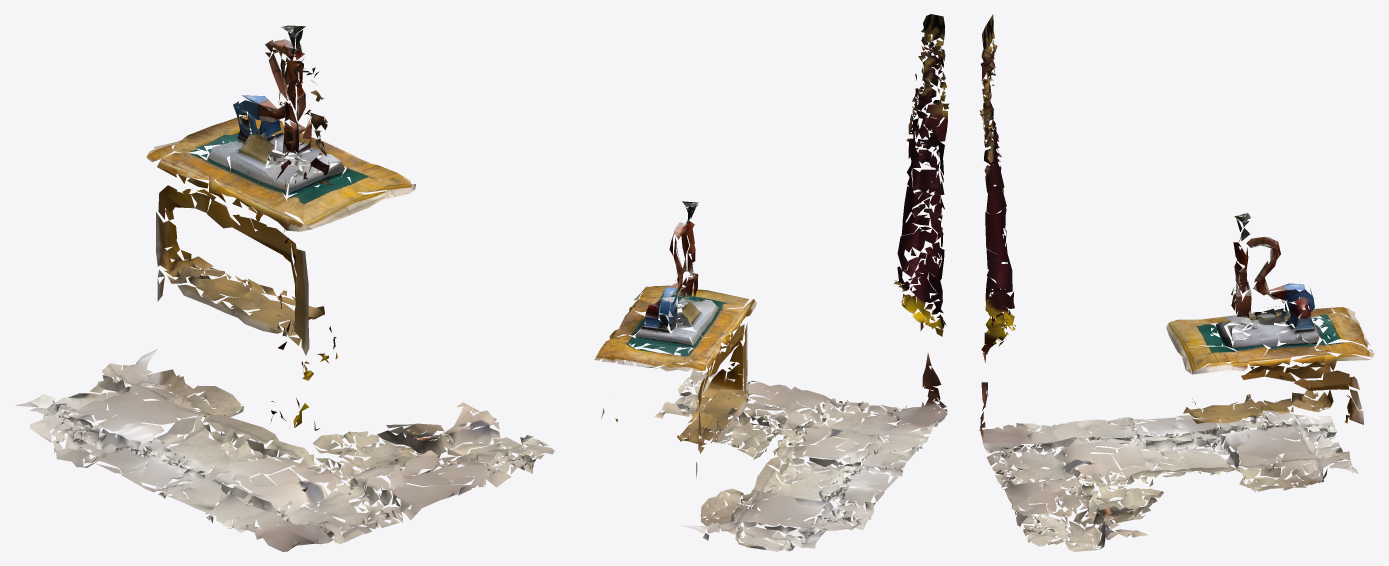
The picture shows the model from 3 angles, left to right: view 1: azimuth 30°, elevation 25°; view 2: azimuth 150°, elevation 25°; view 3: azimuth 270°, elevation 25°; orthographic projection. The views are drawn at different scales.
Parts seen in each view (by area): view 1: Mesh_0; view 2: Mesh_0; view 3: Mesh_0.
Boxes of the visible parts, box(x1,y1,x2,y2) form: Mesh_0: box(15, 25, 555, 551); Mesh_0: box(594, 14, 949, 551); Mesh_0: box(979, 14, 1374, 551).
Bounding box in the file's own units: 1.22 × 1.74 × 1.45.
Materials: 1 (1 with a texture image).
